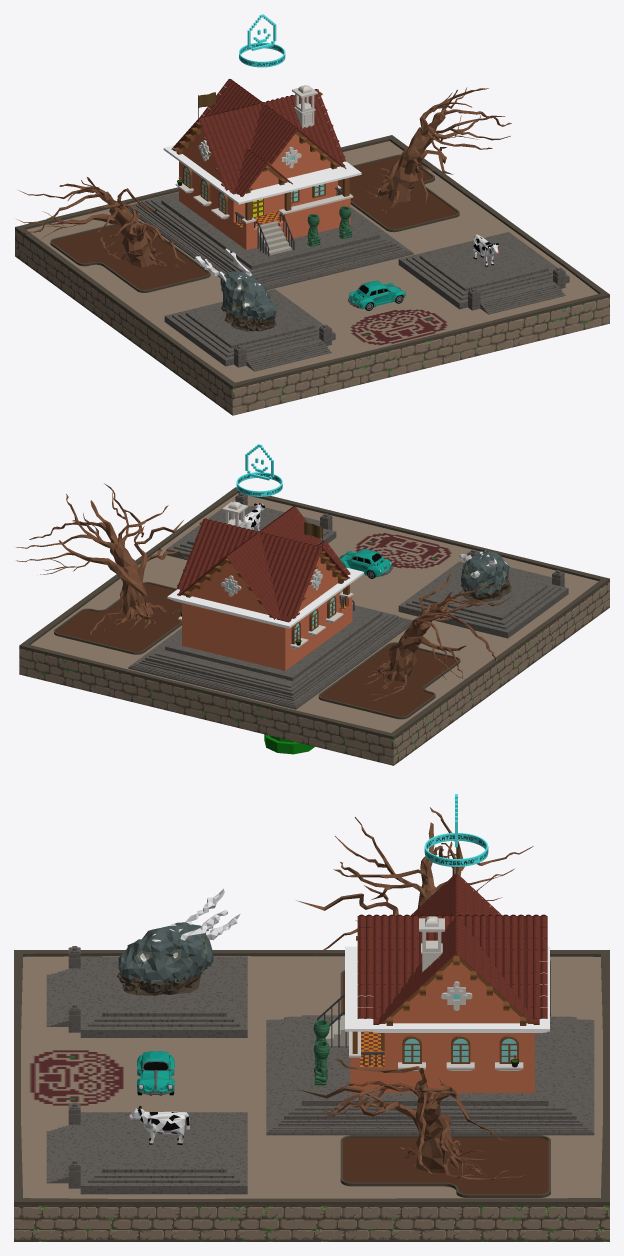
The picture shows the model from 3 angles, top to bottom: view 1: azimuth 30°, elevation 25°; view 2: azimuth 150°, elevation 25°; view 3: azimuth 270°, elevation 25°; orthographic projection. The views are drawn at different scales.
Parts seen in each view (by area): view 1: Cube.011, Cube.1141, OBJRANDOM_METEORITE, VEHICLES_VOLKSWAGEN, TYPE_PREMIUM; view 2: Cube.011, Cube.1141, OBJRANDOM_METEORITE, VEHICLES_VOLKSWAGEN, TYPE_PREMIUM, UNDERGROUND_PIPES; view 3: Cube.011, Cube.1141, OBJRANDOM_METEORITE, VEHICLES_VOLKSWAGEN, ANIMAL_VACA, TYPE_PREMIUM.
Part boxes in pixels (x1,y1,x2,y2): Cube.011: [15, 87, 609, 415]; Cube.1141: [163, 79, 361, 256]; OBJRANDOM_METEORITE: [195, 248, 276, 331]; VEHICLES_VOLKSWAGEN: [348, 280, 405, 310]; TYPE_PREMIUM: [239, 14, 285, 67]; Cube.011: [16, 483, 609, 765]; Cube.1141: [167, 501, 363, 670]; OBJRANDOM_METEORITE: [458, 550, 511, 602]; VEHICLES_VOLKSWAGEN: [339, 548, 392, 578]; TYPE_PREMIUM: [236, 444, 282, 496]; UNDERGROUND_PIPES: [264, 734, 314, 754]; Cube.011: [14, 807, 609, 1241]; Cube.1141: [317, 844, 549, 1092]; OBJRANDOM_METEORITE: [117, 888, 240, 995]; VEHICLES_VOLKSWAGEN: [137, 1051, 174, 1095]; ANIMAL_VACA: [128, 1106, 189, 1144]; TYPE_PREMIUM: [424, 794, 488, 866].
Bounding box in the file's own units: 5099 × 3050 × 4000.
40 materials, 6 textured.
